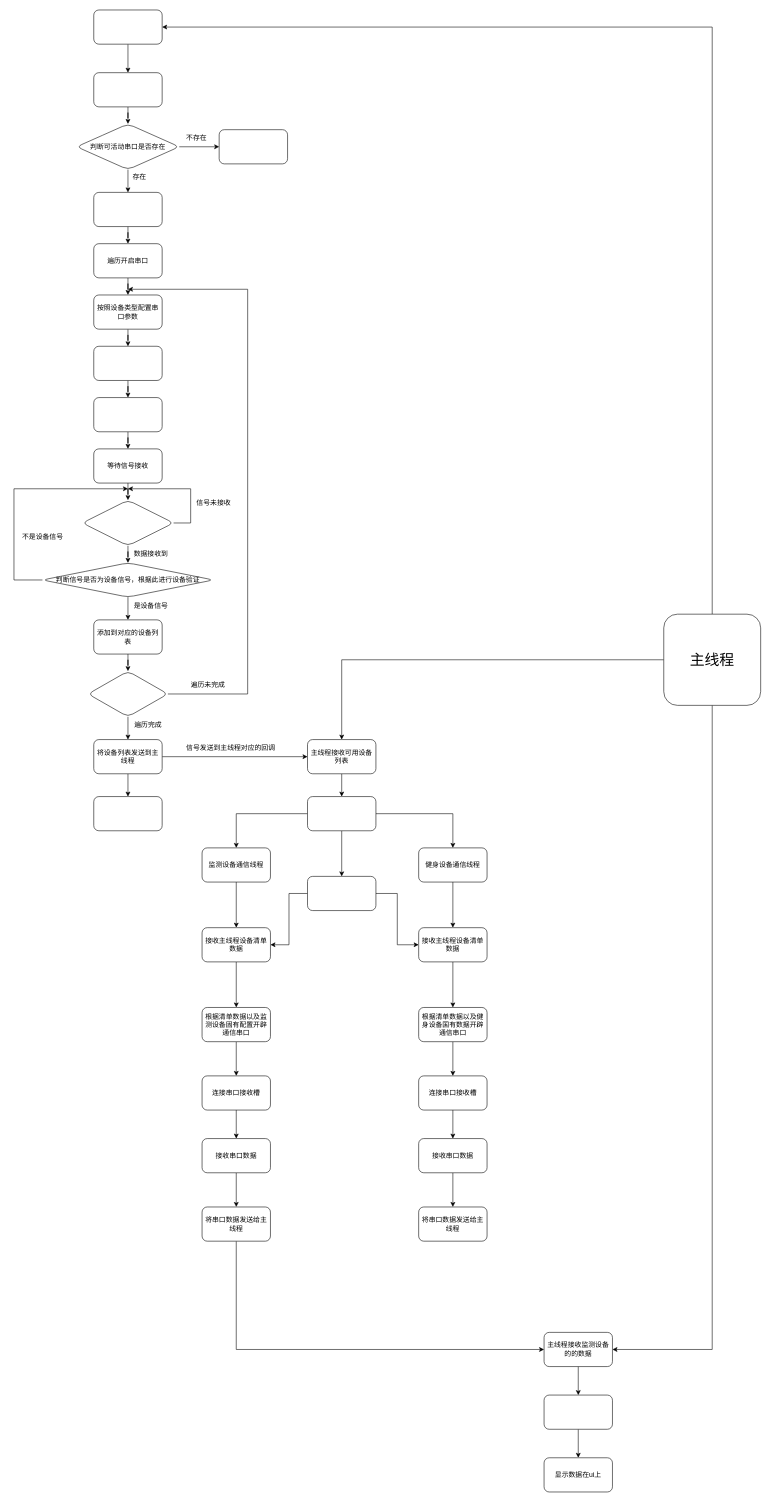
This 771x1502 diagram has some shape labels left out. Here are the shapes that lost their labels. From the top down, the centre of each, then its label:
At [127,26]: "按键触发".
At [127,89]: "创建设备搜索线程".
At [253,146]: "发送设备不存在报错信息，结束线程".
At [127,209]: "获取活动串口列表".
At [127,363]: "开启串口".
At [127,414]: "链接串口接收信号".
At [128,523]: "判断信号是否接收".
At [127,694]: "判断是否遍历完成".
At [127,813]: "该设备搜索线程结束".
At [341,813]: "主线程开辟设备通信线程".
At [341,893]: "主线程将可用设备清单传递给对应的线程".
At [577,1412]: "存放数据".
